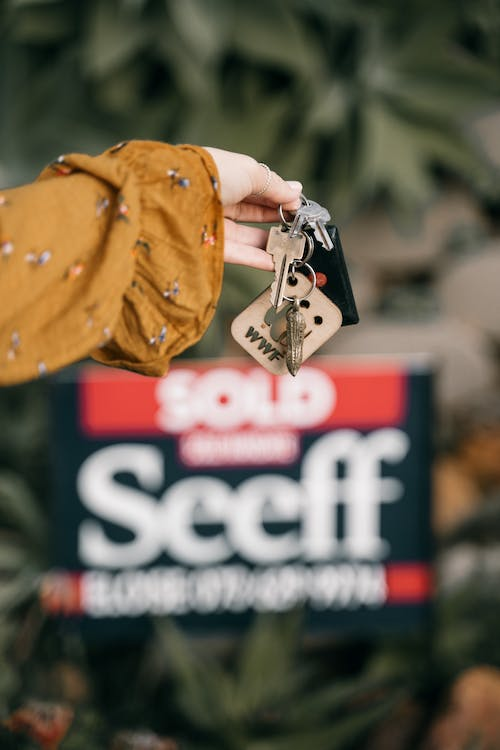key: (266, 224, 307, 308), (296, 198, 338, 250)
